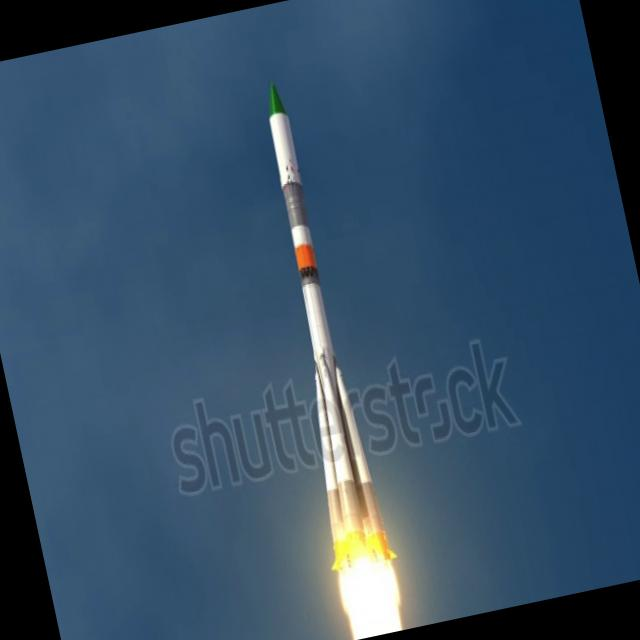rocket: (232, 65, 406, 621)
